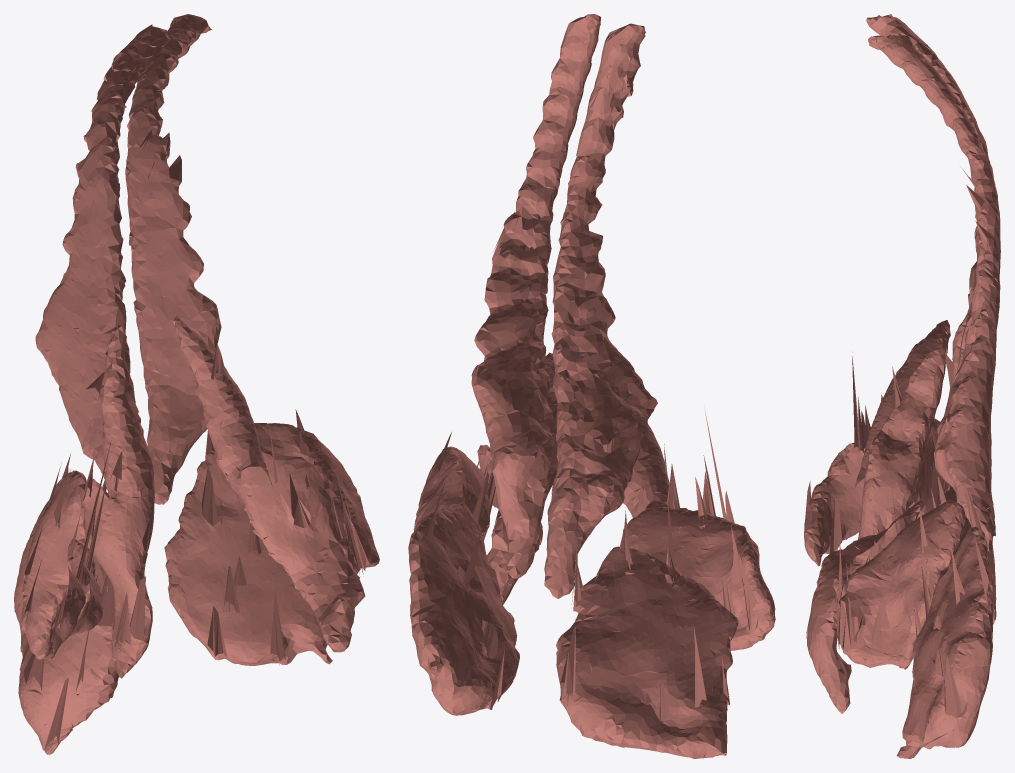
Rendered from musculos.glb.
3 views of the same model, side by side, from view 1: azimuth 30°, elevation 25°; view 2: azimuth 150°, elevation 25°; view 3: azimuth 270°, elevation 25° (orthographic). The views are drawn at different scales.
Visible parts, largest first — view 1: autochthon_left, autochthon_right, gluteus_maximus_left, iliopsoas_left, iliopsoas_right, gluteus_maximus_right, gluteus_medius_right, gluteus_medius_left, gluteus_minimus_right, gluteus_minimus_left; view 2: gluteus_maximus_right, autochthon_right, autochthon_left, gluteus_maximus_left, gluteus_medius_right, gluteus_medius_left, iliopsoas_right, iliopsoas_left; view 3: autochthon_left, gluteus_maximus_left, iliopsoas_left, gluteus_medius_left, iliopsoas_right, autochthon_right, gluteus_medius_right, gluteus_minimus_right, gluteus_maximus_right.
Part boxes in pixels (x1,y1,x2,y2): autochthon_left: [125, 14, 221, 504]; autochthon_right: [35, 24, 170, 493]; gluteus_maximus_left: [164, 431, 332, 665]; iliopsoas_left: [173, 314, 365, 652]; iliopsoas_right: [82, 325, 154, 678]; gluteus_maximus_right: [14, 453, 118, 755]; gluteus_medius_right: [20, 466, 87, 659]; gluteus_medius_left: [226, 409, 379, 576]; gluteus_minimus_right: [66, 440, 111, 637]; gluteus_minimus_left: [269, 427, 360, 574]; gluteus_maximus_right: [556, 496, 738, 758]; autochthon_right: [544, 23, 657, 598]; autochthon_left: [471, 14, 600, 578]; gluteus_maximus_left: [408, 472, 519, 715]; gluteus_medius_right: [622, 477, 775, 650]; gluteus_medius_left: [414, 432, 495, 564]; iliopsoas_right: [623, 424, 713, 517]; iliopsoas_left: [477, 352, 557, 604]; autochthon_left: [868, 33, 1000, 551]; gluteus_maximus_left: [896, 485, 993, 758]; iliopsoas_left: [806, 345, 945, 713]; gluteus_medius_left: [836, 477, 965, 669]; iliopsoas_right: [804, 320, 950, 566]; autochthon_right: [866, 14, 995, 534]; gluteus_medius_right: [870, 418, 950, 517]; gluteus_minimus_right: [827, 352, 907, 510]; gluteus_maximus_right: [917, 426, 996, 624].
Size of the model in its own units: 0.3351 by 0.6645 by 0.1755.
